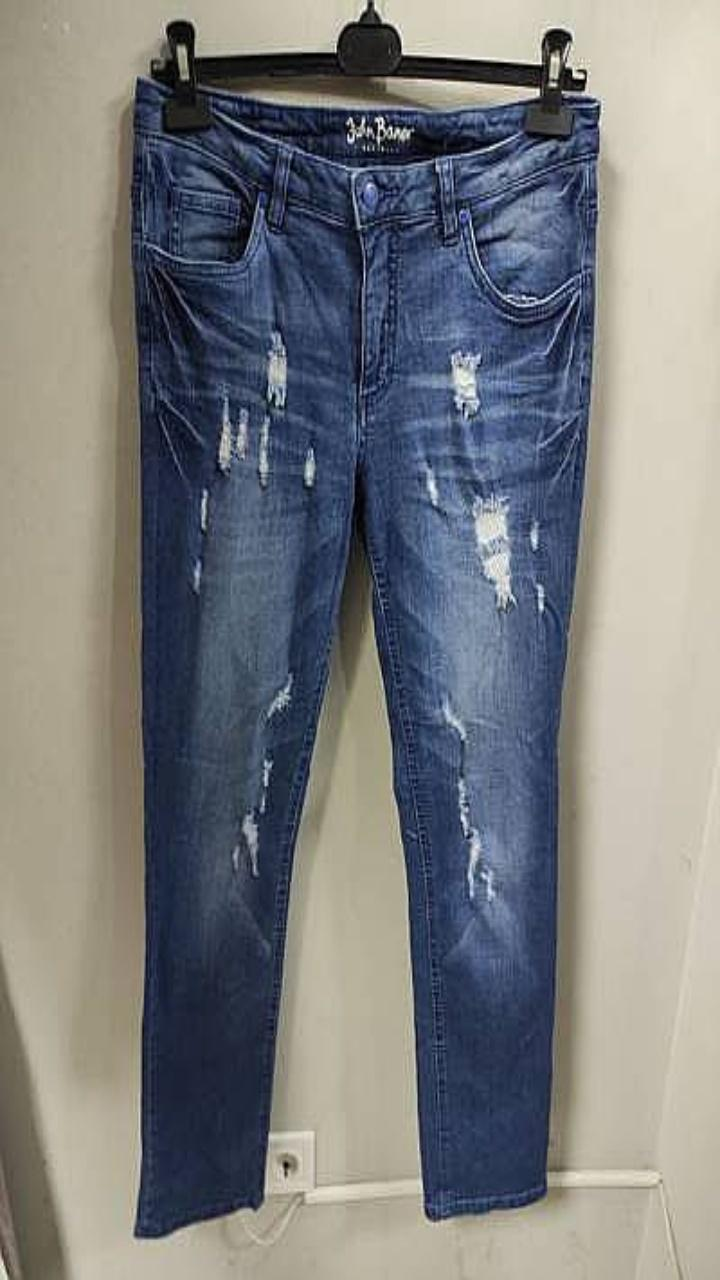Jeans: (132, 77, 599, 1235)
